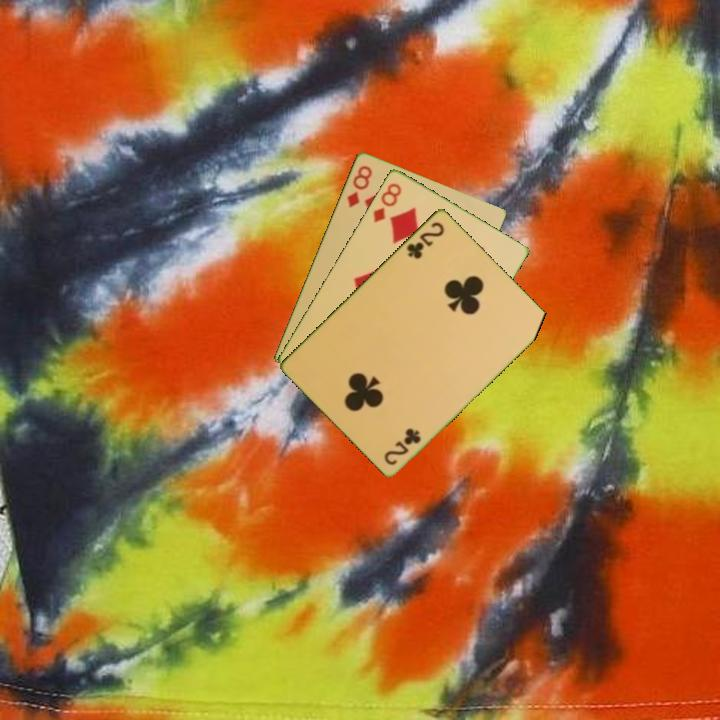2c: (403, 218, 447, 261), (380, 425, 424, 468)
8d: (369, 179, 404, 225), (343, 161, 375, 210)
